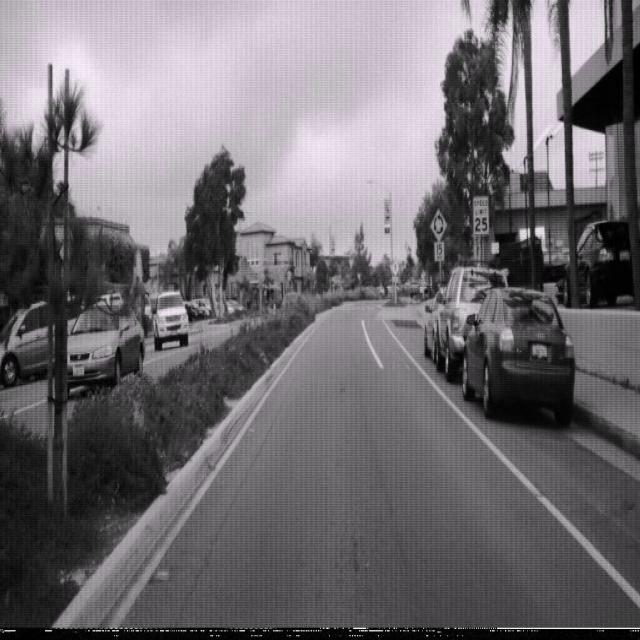speedLimit25: (472, 194, 490, 235)
